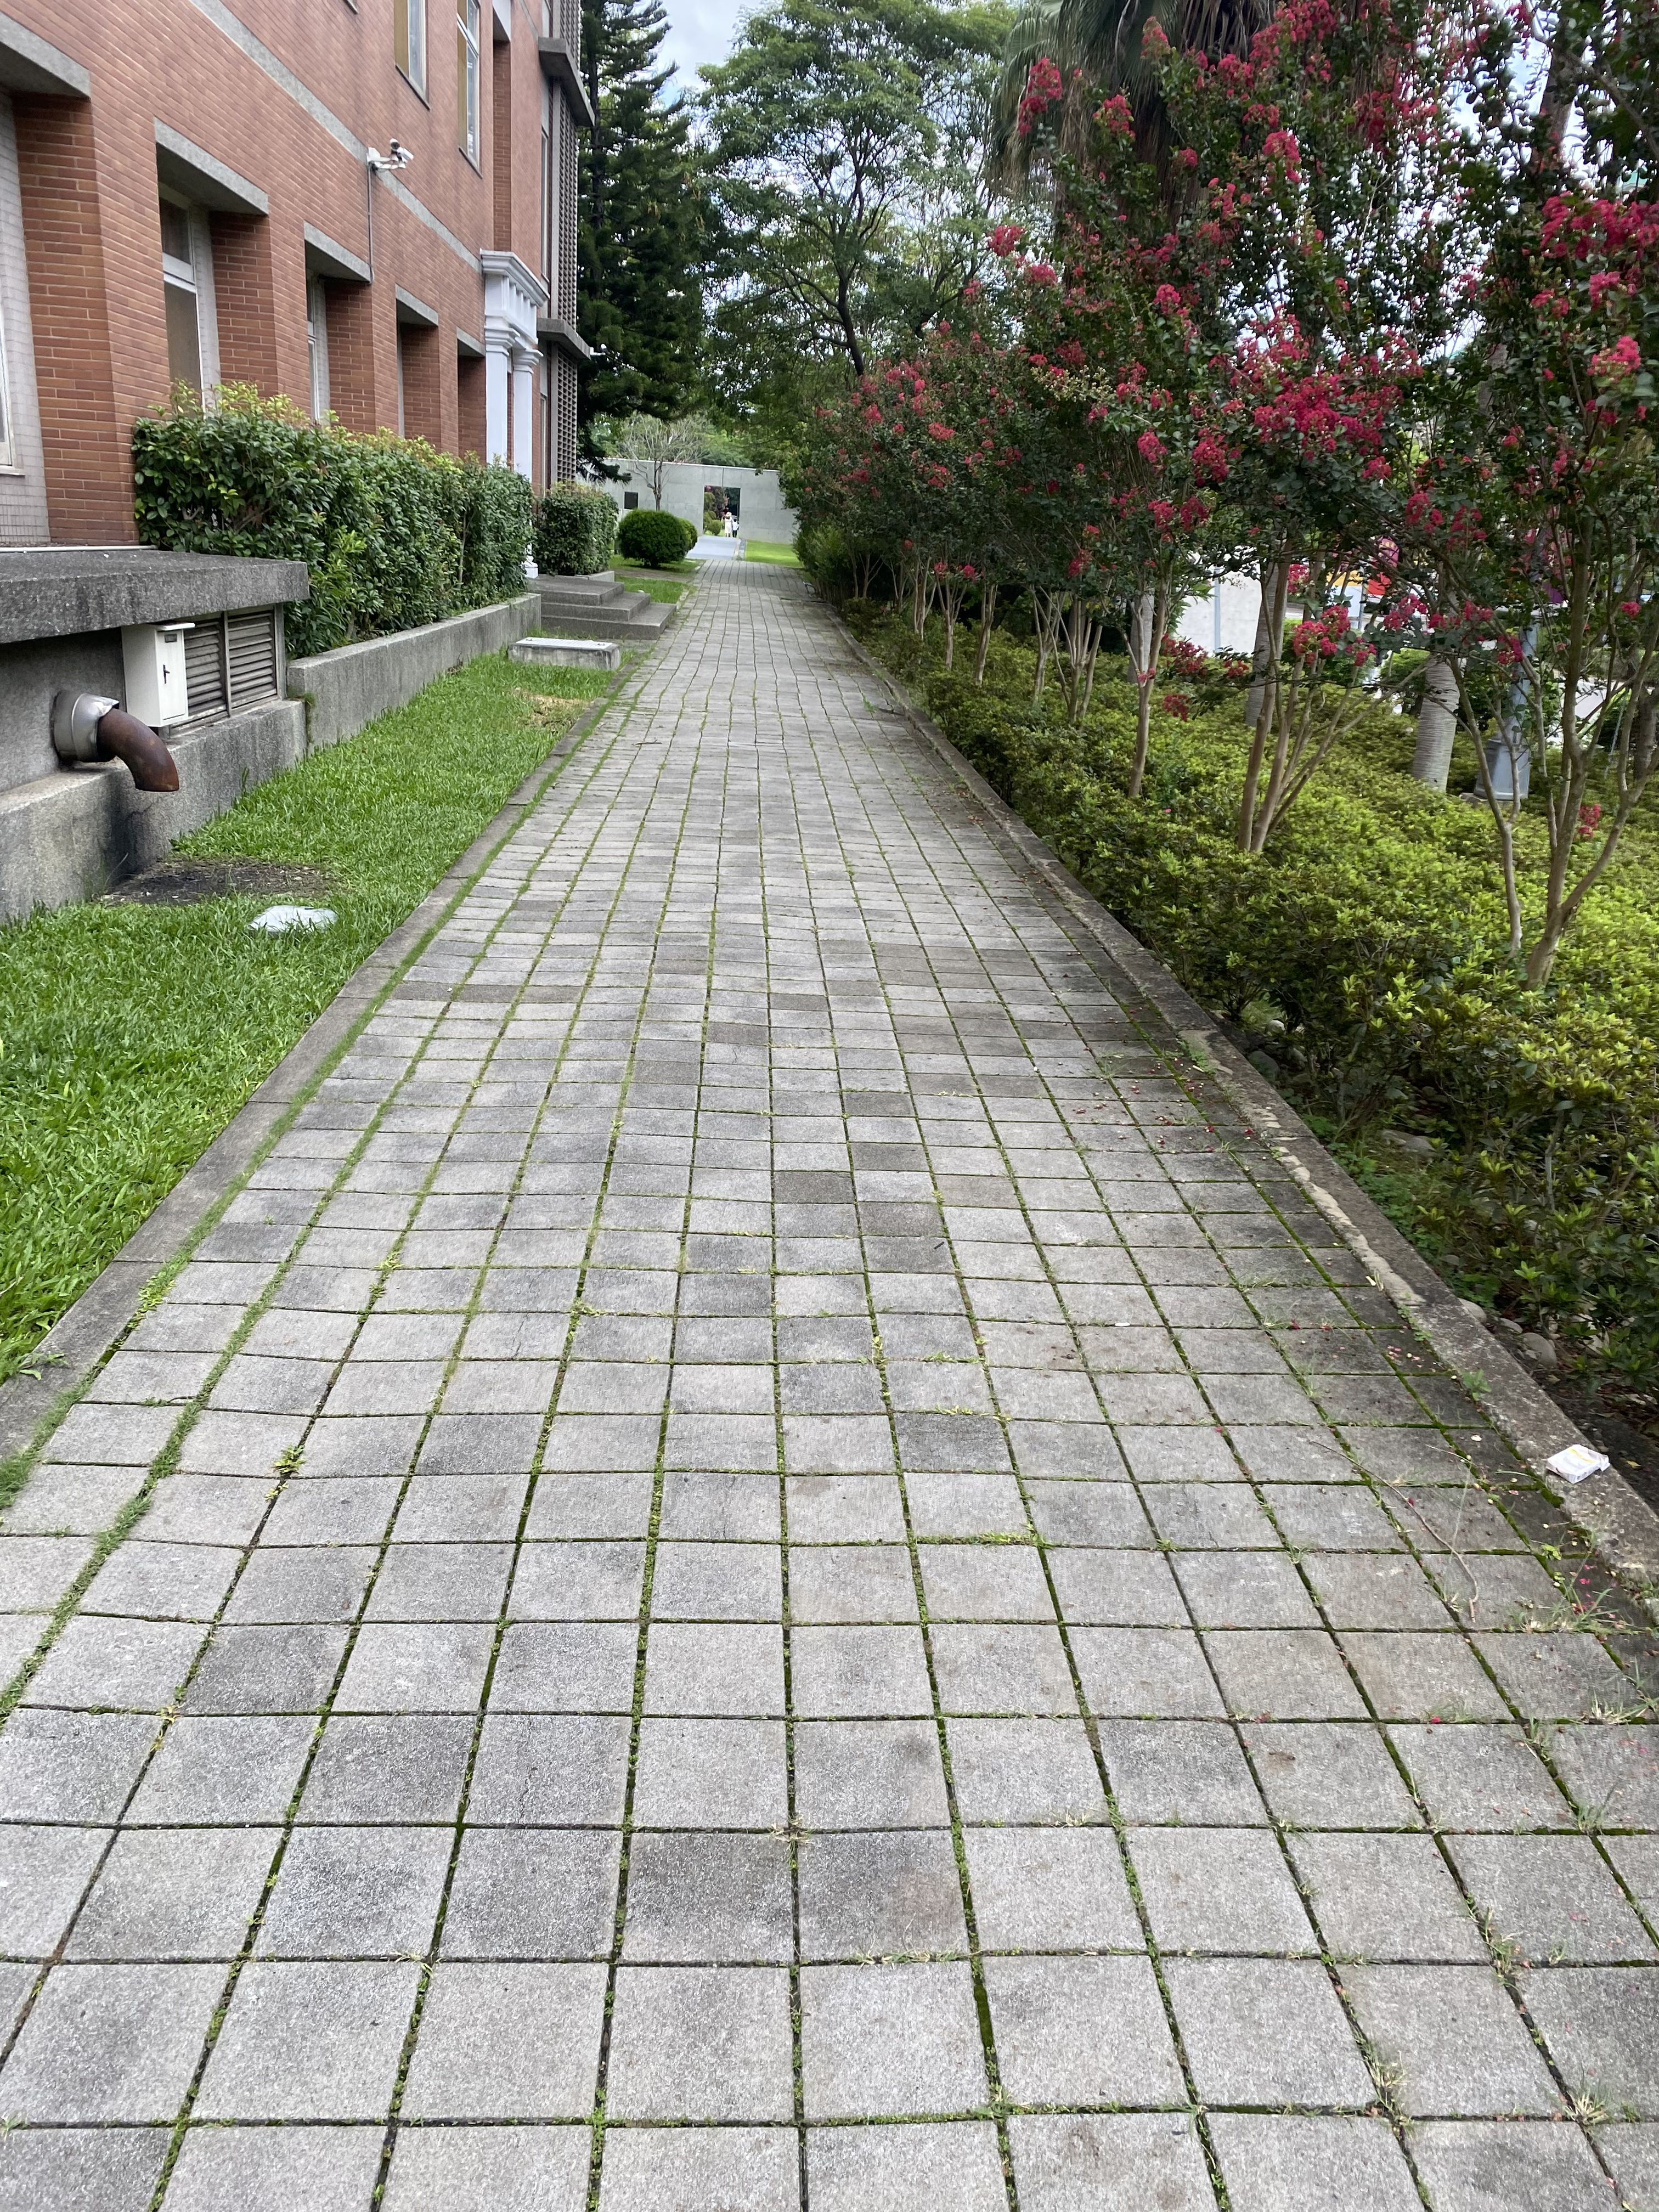0: (10, 827, 580, 2207)
sidewalk: (518, 524, 1659, 2212)
